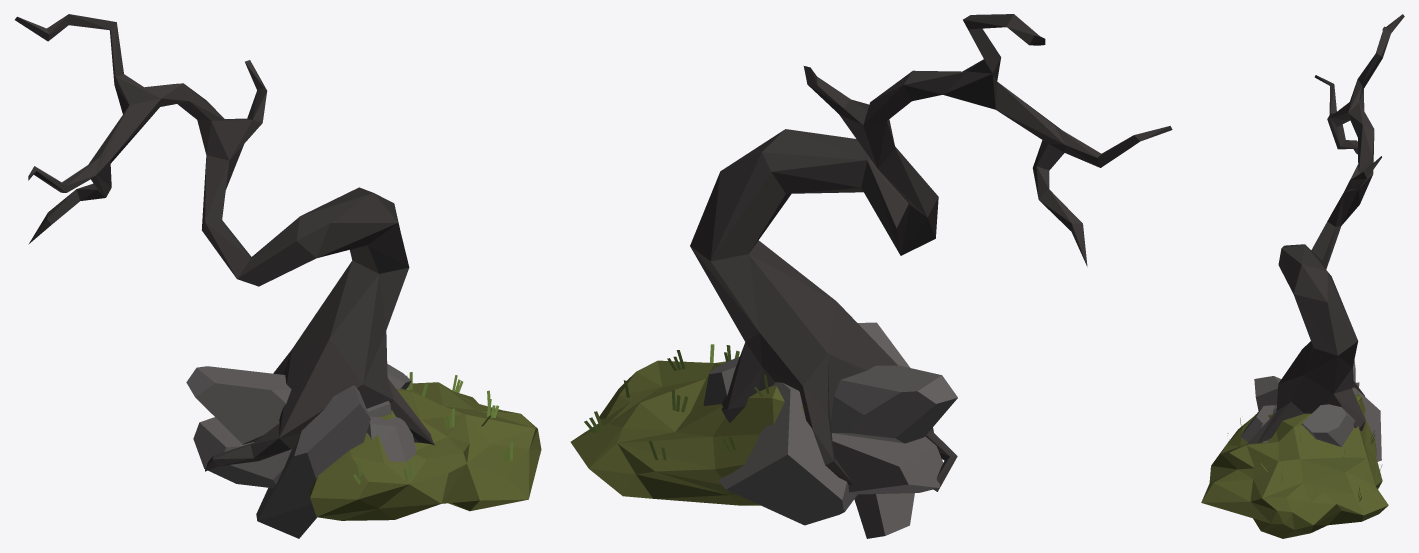
The model's file is Tree_Dead_04.glb.
3 renders of one model, left to right at view 1: azimuth 30°, elevation 25°; view 2: azimuth 150°, elevation 25°; view 3: azimuth 270°, elevation 25°, orthographic. The views are drawn at different scales.
Visible parts, largest first — view 1: Tree_Dead_04; view 2: Tree_Dead_04; view 3: Tree_Dead_04.
Part boxes in pixels (x1,y1,x2,y2): Tree_Dead_04: (15, 14, 541, 538); Tree_Dead_04: (570, 14, 1172, 538); Tree_Dead_04: (1201, 14, 1404, 538).
Size of what is drawn, in the model's own units: 7.4 by 7.55 by 3.6.
Materials: 1 (1 with a texture image).
